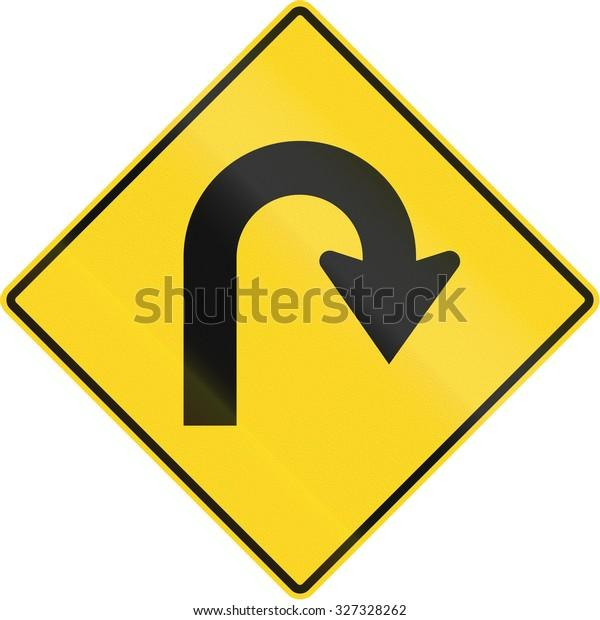Right Hair Pin Bend: (52, 45, 564, 540)
